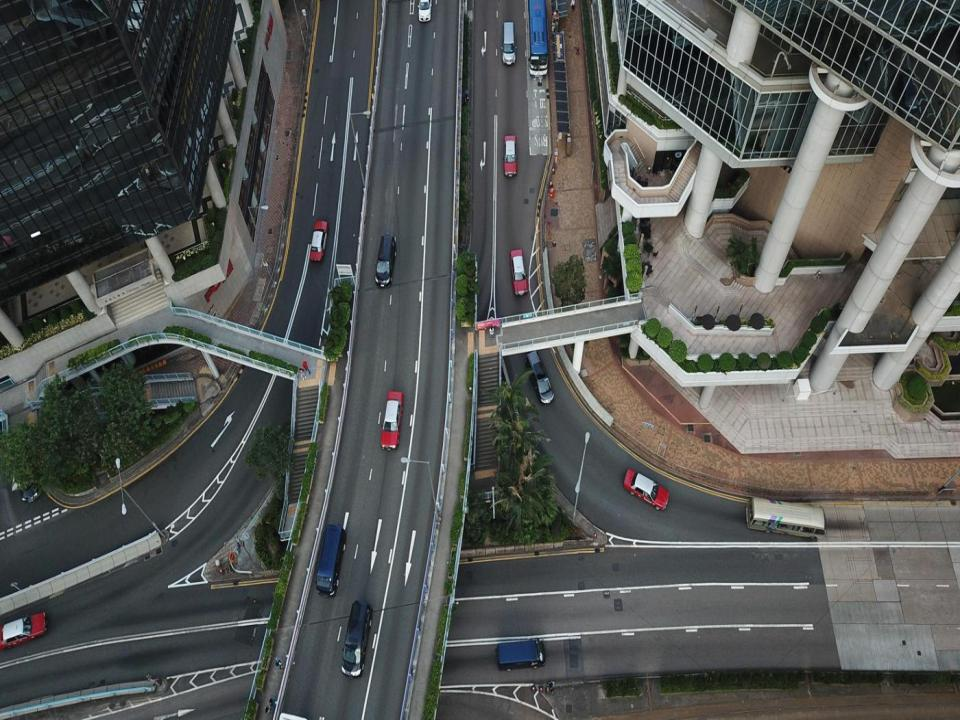bus: (744, 495, 824, 540), (525, 0, 549, 74)
car: (622, 468, 668, 509), (0, 609, 49, 647), (380, 393, 402, 449), (307, 218, 331, 263), (506, 248, 527, 298), (502, 132, 515, 174), (416, 2, 431, 23)
van: (339, 597, 376, 677), (312, 524, 348, 598), (524, 347, 556, 404), (495, 638, 545, 672), (372, 235, 397, 289), (501, 20, 517, 65), (564, 130, 573, 159)
